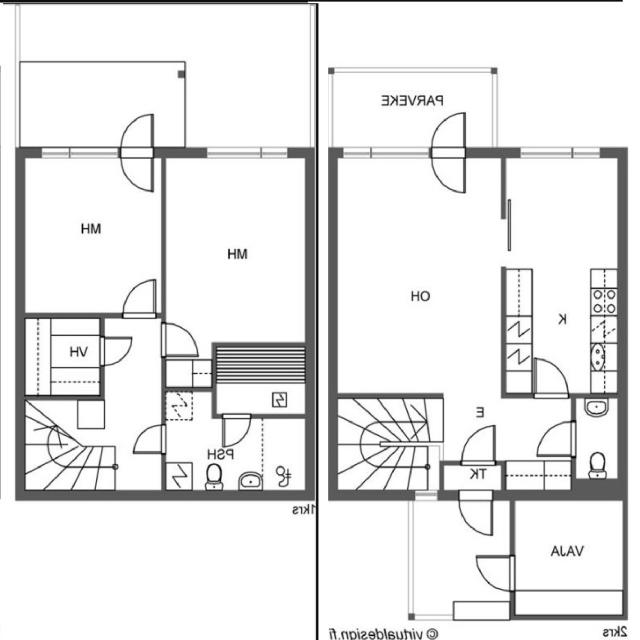door: (424, 105, 474, 199), (115, 112, 163, 198), (470, 543, 520, 595), (156, 314, 203, 361), (452, 488, 494, 540), (526, 352, 571, 398), (115, 275, 159, 321), (534, 418, 578, 463), (464, 419, 496, 468), (217, 409, 250, 455), (130, 419, 168, 457), (99, 331, 136, 369)
window: (331, 138, 432, 163), (196, 134, 288, 161), (30, 141, 124, 166), (508, 142, 605, 162), (404, 483, 438, 506)
zone: (326, 156, 504, 394), (501, 156, 622, 396), (160, 154, 310, 345), (22, 151, 162, 315), (157, 406, 317, 506), (507, 493, 624, 621), (14, 314, 108, 402), (211, 345, 310, 414), (566, 391, 620, 486)
